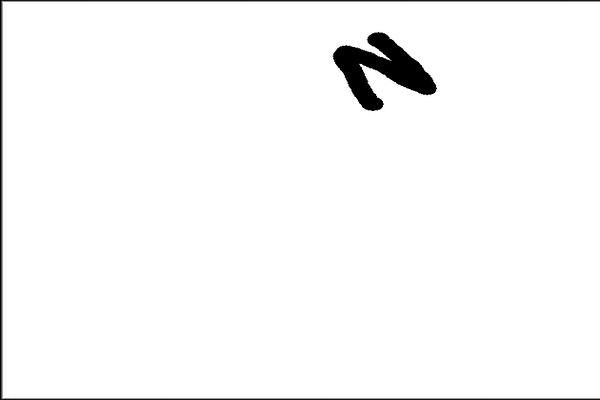N: (326, 25, 448, 116)
